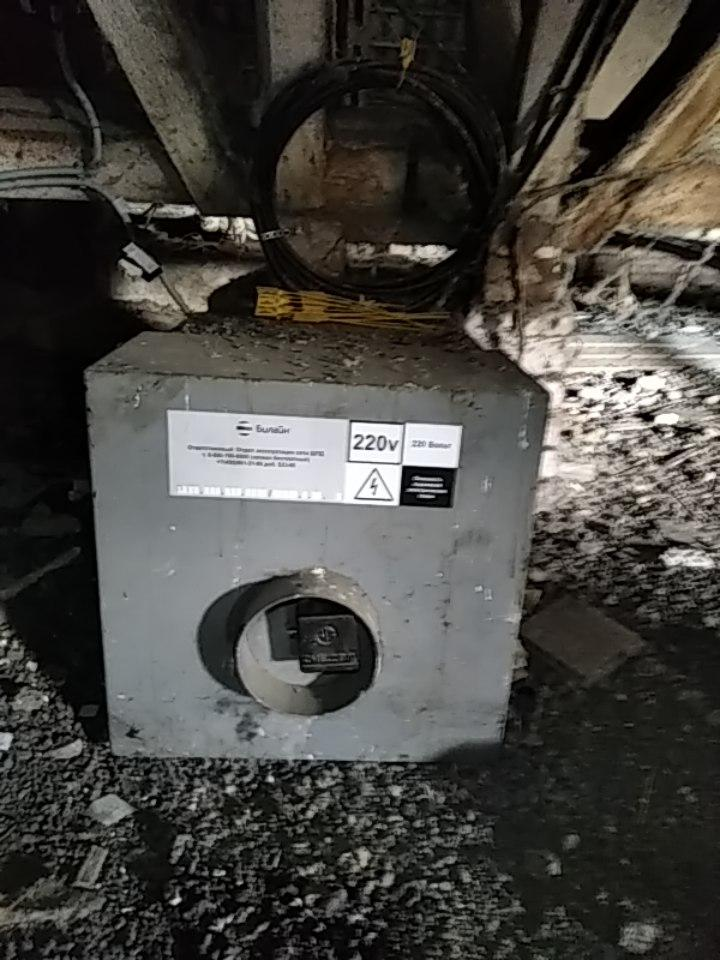shta-9: (69, 300, 558, 780)
